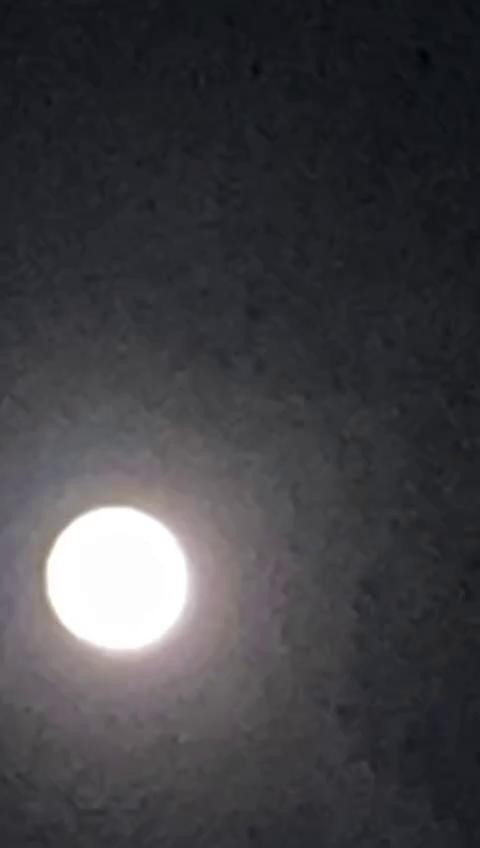moon: (22, 491, 194, 682)
